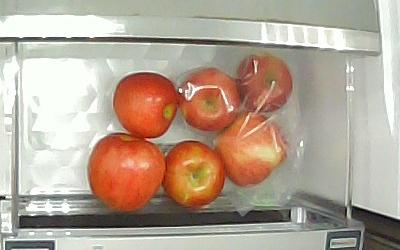apple: (86, 132, 166, 211), (113, 73, 178, 138), (164, 140, 225, 209)
apple_vinyl: (216, 110, 289, 187), (180, 67, 239, 133), (238, 54, 295, 112)
